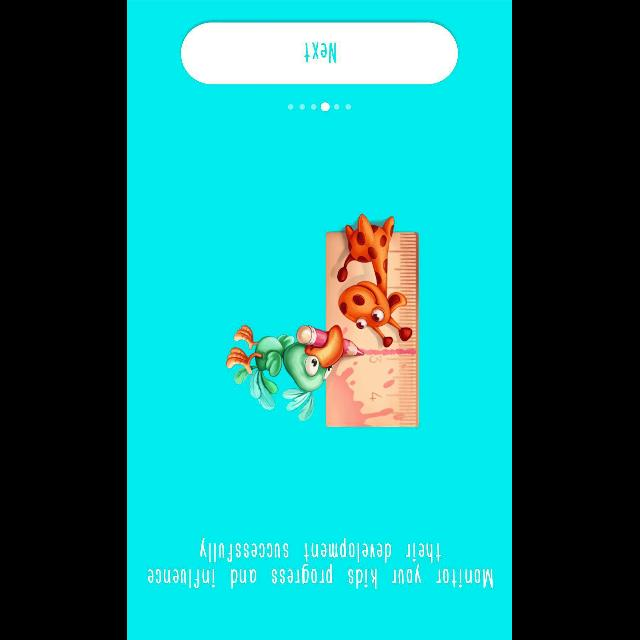image: (227, 215, 419, 428)
pageindicator: (288, 102, 352, 112)
text: (149, 537, 495, 589)
textbutton: (181, 22, 459, 84)
